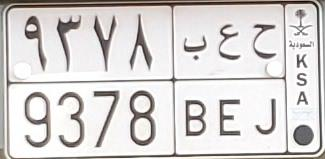3: (57, 14, 88, 148)
7: (92, 14, 120, 148)
8: (126, 11, 158, 148)
9: (22, 15, 53, 148)
B: (184, 34, 208, 139)
E: (218, 23, 243, 136)
J: (251, 23, 278, 136)
